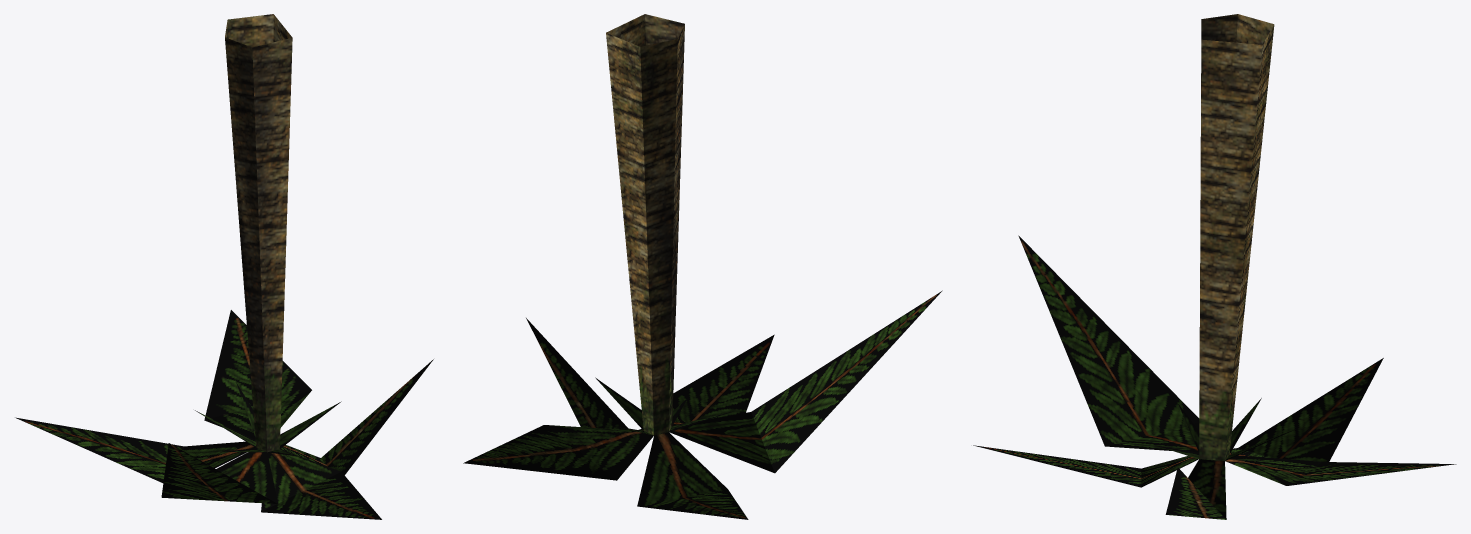
The model's file is Tree5M.obj.
3 views of the same model, side by side, from view 1: azimuth 30°, elevation 25°; view 2: azimuth 150°, elevation 25°; view 3: azimuth 270°, elevation 25° (orthographic). The views are drawn at different scales.
Parts seen in each view (by area): view 1: Group1.001; view 2: Group1.001; view 3: Group1.001.
Part boxes in pixels (bbox=[...]): Group1.001: bbox=[15, 14, 433, 519]; Group1.001: bbox=[463, 14, 942, 519]; Group1.001: bbox=[973, 14, 1456, 519].
Size of the model in its own units: 136 by 167 by 160.
1 material, 1 textured.
